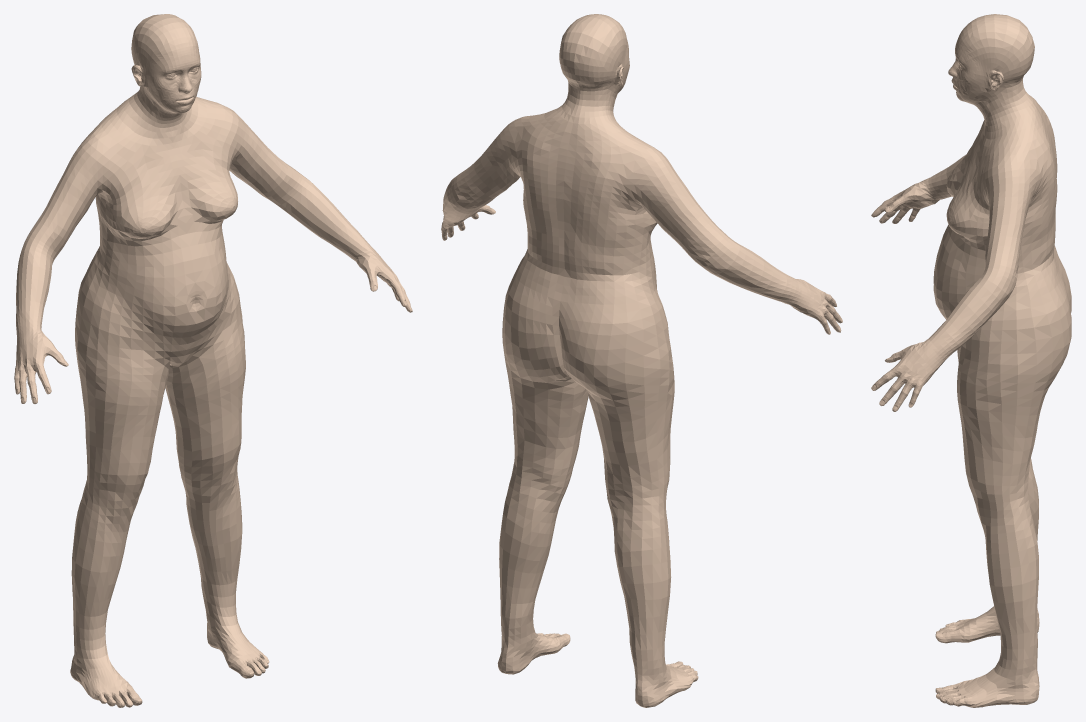
The model's file is female-mature-max-low.glb.
3 views of the same model, side by side, from view 1: azimuth 30°, elevation 25°; view 2: azimuth 150°, elevation 25°; view 3: azimuth 270°, elevation 25° (orthographic).
Parts seen in each view (by area): view 1: world; view 2: world; view 3: world.
Boxes of the visible parts, <box> form: world: <box>14,14,412,707</box>; world: <box>441,14,842,707</box>; world: <box>871,14,1071,707</box>.
Bounding box in the file's own units: 1.12 × 1.81 × 0.503.
